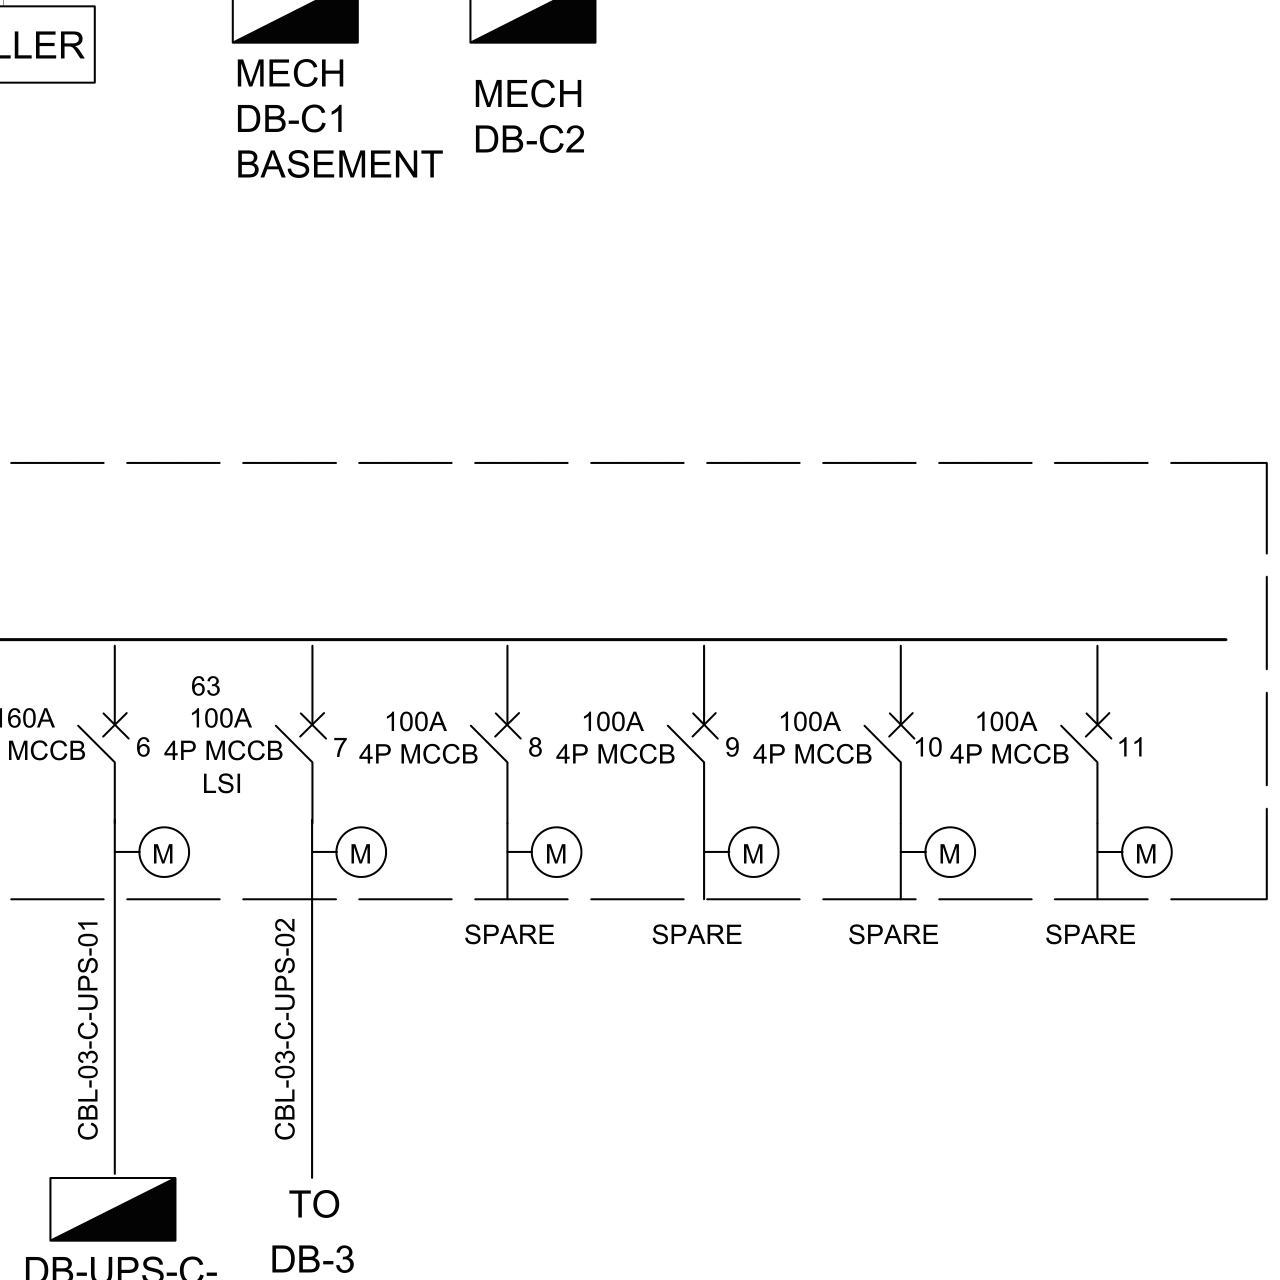Distribution Board: (40, 1171, 189, 1251)
